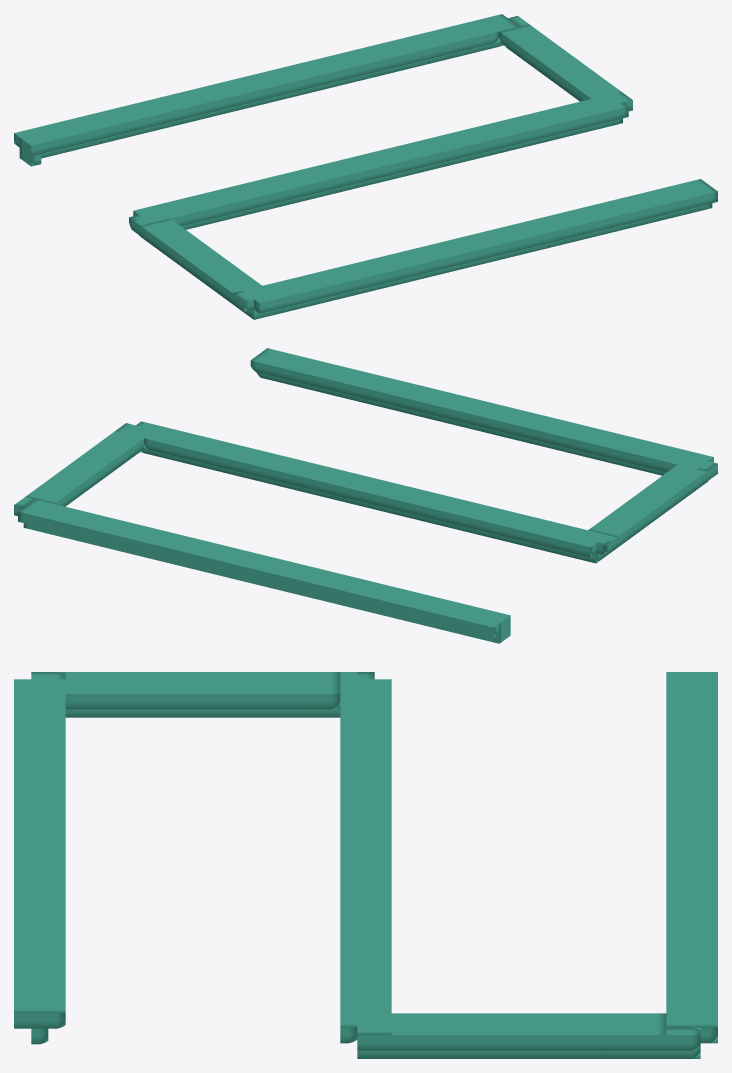
The model's file is lampa_neon.dae.
3 views of the same model, one above another, from view 1: azimuth 30°, elevation 25°; view 2: azimuth 150°, elevation 25°; view 3: azimuth 270°, elevation 25° (orthographic). The views are drawn at different scales.
Parts seen in each view (by area): view 1: Content; view 2: Content; view 3: Content.
Part boxes in pixels (bbox=[...]): Content: bbox=[14, 14, 717, 319]; Content: bbox=[14, 348, 717, 643]; Content: bbox=[14, 672, 717, 1058].
Size of the model in its own units: 50 by 2 by 41.
1 material, 1 textured.
